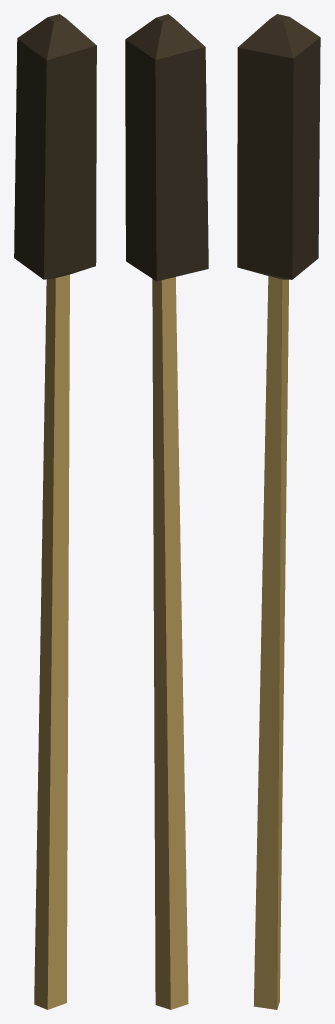
Rendered from EA03_Nature_SweetFlag_01a.glb.
3 renders of one model, left to right at view 1: azimuth 30°, elevation 25°; view 2: azimuth 210°, elevation 25°; view 3: azimuth 330°, elevation 25°, orthographic.
Parts seen in each view (by area): view 1: EA03_Nature_SweetFlag_01a; view 2: EA03_Nature_SweetFlag_01a; view 3: EA03_Nature_SweetFlag_01a.
Boxes of the visible parts, x1,y1,x2,y2 form: EA03_Nature_SweetFlag_01a: [14, 14, 96, 1009]; EA03_Nature_SweetFlag_01a: [125, 14, 208, 1009]; EA03_Nature_SweetFlag_01a: [237, 14, 320, 1009].
Size of the model in its own units: 0.1722 by 2.96 by 0.1698.
1 material, 1 textured.
